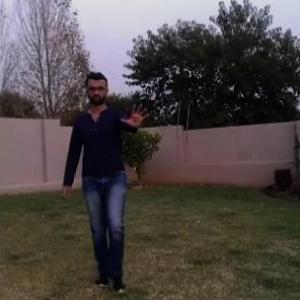follow_hand: (118, 99, 155, 132)
